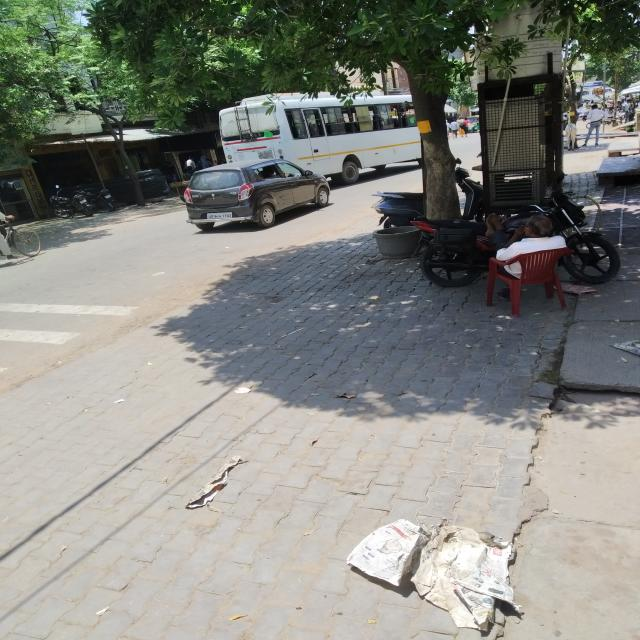Car: (182, 156, 329, 233)
